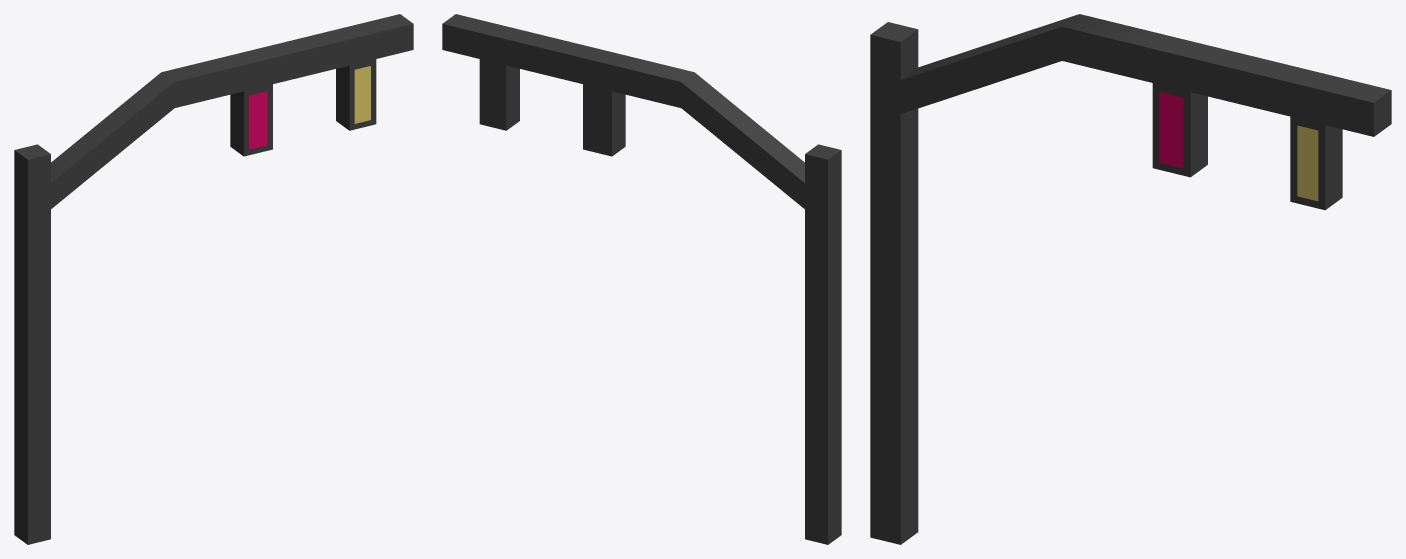
The model's file is streetLight.fbx.
3 views of the same model, side by side, from view 1: azimuth 30°, elevation 25°; view 2: azimuth 150°, elevation 25°; view 3: azimuth 330°, elevation 25° (orthographic). The views are drawn at different scales.
Parts seen in each view (by area): view 1: pCube5; view 2: pCube5; view 3: pCube5.
Boxes of the visible parts, left/top/right/bottom form: pCube5: left=14, top=14, right=413, bottom=544; pCube5: left=442, top=14, right=841, bottom=544; pCube5: left=870, top=14, right=1391, bottom=544.
Bounding box in the file's own units: 98.45 × 104 × 5.92.
